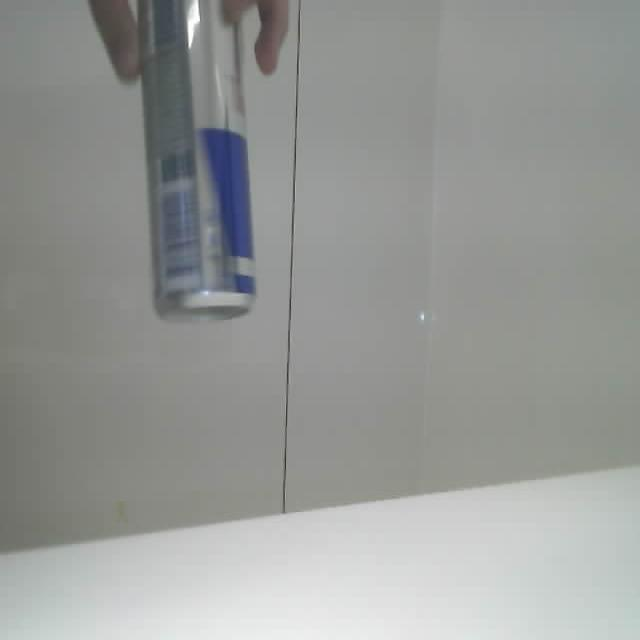redbull can: (138, 0, 254, 318)
